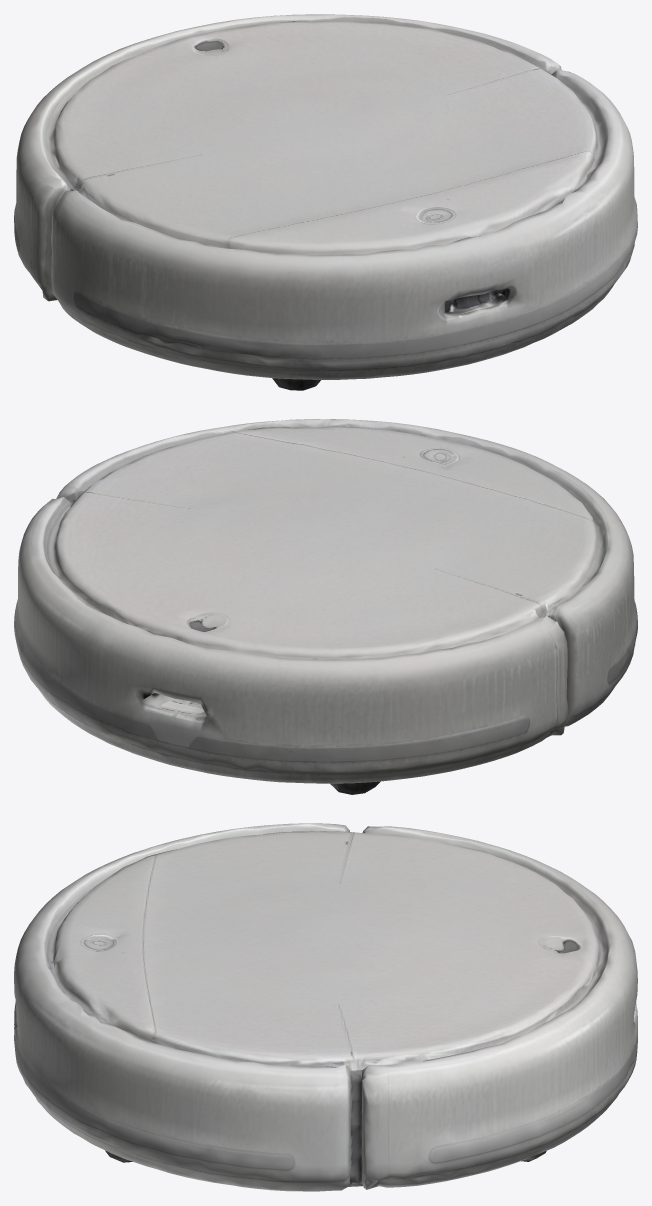
Rendered from P_RobotVacuum_h9.fbx.
3 views of the same model, one above another, from view 1: azimuth 30°, elevation 25°; view 2: azimuth 150°, elevation 25°; view 3: azimuth 270°, elevation 25° (orthographic).
Parts seen in each view (by area): view 1: texture_mapping; view 2: texture_mapping; view 3: texture_mapping.
Boxes of the visible parts, left/top/right/bottom form: texture_mapping: left=14, top=14, right=637, bottom=390; texture_mapping: left=14, top=419, right=637, bottom=794; texture_mapping: left=14, top=823, right=637, bottom=1191.
Size of the model in its own units: 1 by 1 by 0.2773.
1 material, 1 textured.
